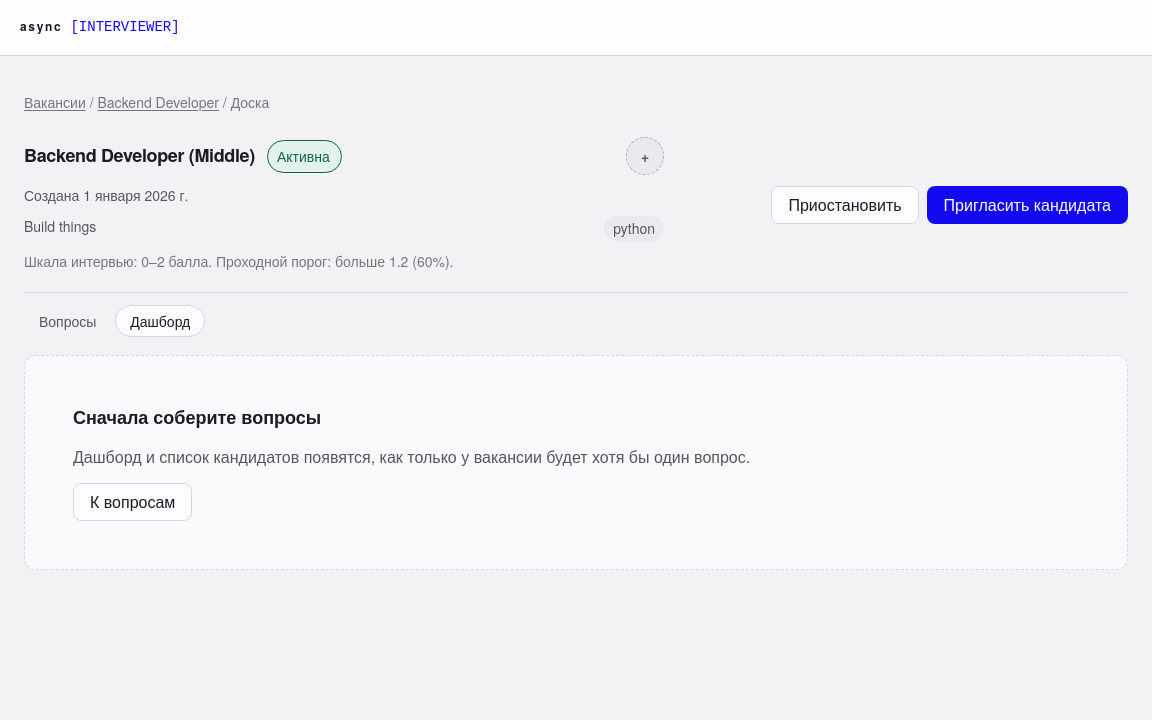
Test: VacancyDetailClient › enables the invite form once the vacancy is active
expect the heading "Backend Developer (Middle)" is shown: met, box [24,145,255,167]
expect the field labelled "резюме кандидата" is not shown: met
Click the button "Пригласить кандидата": (1027, 204) [927,186,1128,224]
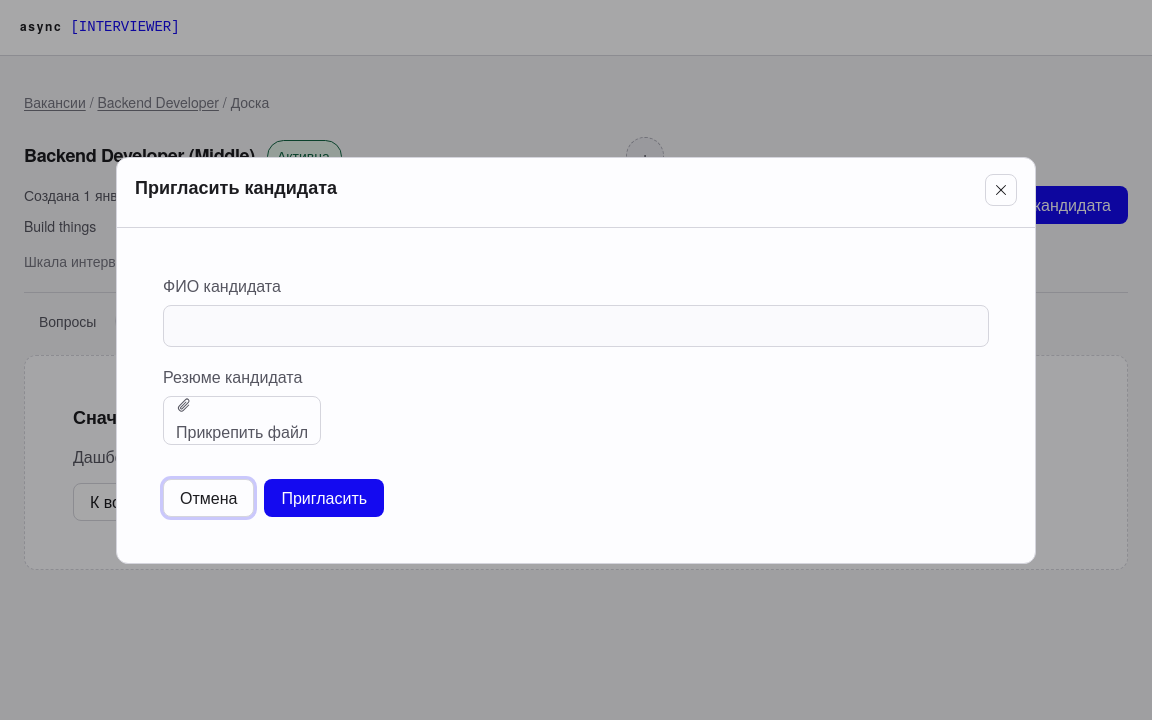
expect the file field named "резюме кандидата" is enabled: met, box [163,396,321,444]
